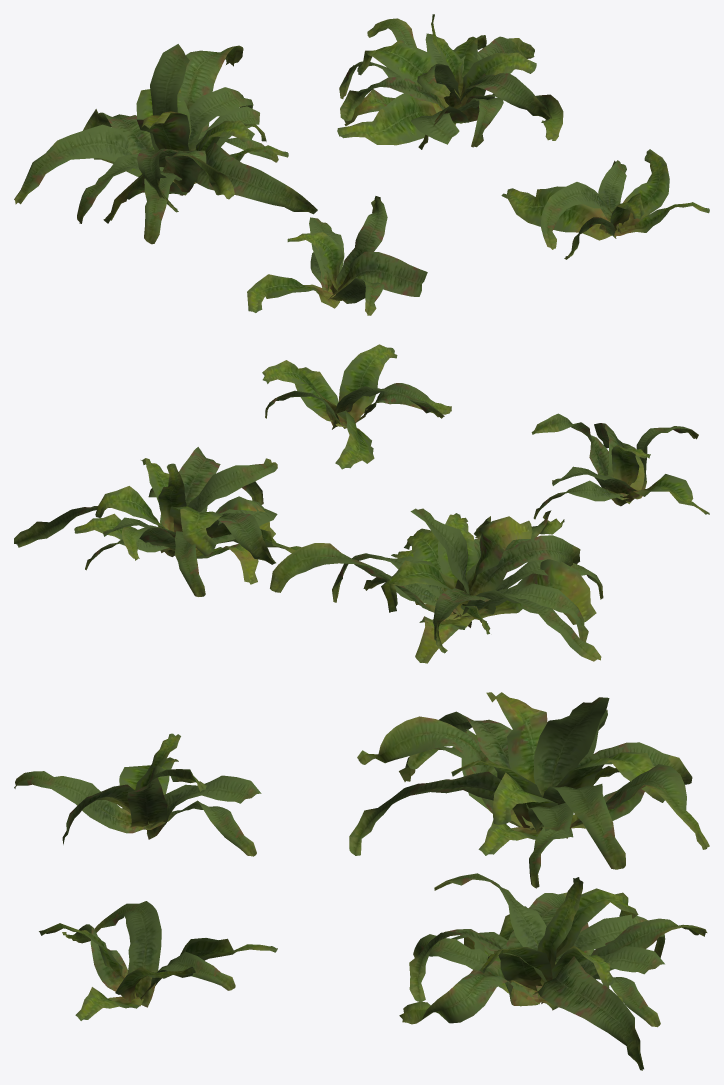
The model's file is fern.glb.
The picture shows the model from 3 angles, top to bottom: view 1: azimuth 30°, elevation 25°; view 2: azimuth 150°, elevation 25°; view 3: azimuth 270°, elevation 25°; orthographic projection. The views are drawn at different scales.
Visible parts, largest first — view 1: fern_02_b, fern_02_c, fern_02_d, fern_02_a; view 2: fern_02_b, fern_02_c, fern_02_d, fern_02_a; view 3: fern_02_b, fern_02_c, fern_02_a, fern_02_d.
Boxes of the visible parts, <box> form: fern_02_b: <box>14,44,317,244</box>; fern_02_c: <box>337,14,563,149</box>; fern_02_d: <box>501,149,709,259</box>; fern_02_a: <box>247,196,427,315</box>; fern_02_b: <box>270,508,603,663</box>; fern_02_c: <box>14,447,300,596</box>; fern_02_d: <box>262,344,451,469</box>; fern_02_a: <box>531,413,709,519</box>; fern_02_b: <box>349,692,709,888</box>; fern_02_c: <box>399,873,707,1070</box>; fern_02_a: <box>14,733,261,856</box>; fern_02_d: <box>39,901,277,1020</box>.
Size of the model in its own units: 1.97 by 0.4277 by 1.72.
1 material, 1 textured.
